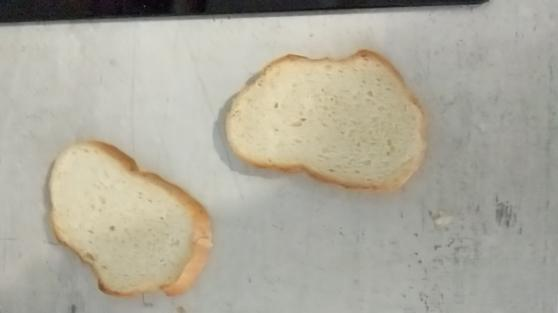white_bread: (223, 53, 426, 186), (48, 140, 213, 295)
